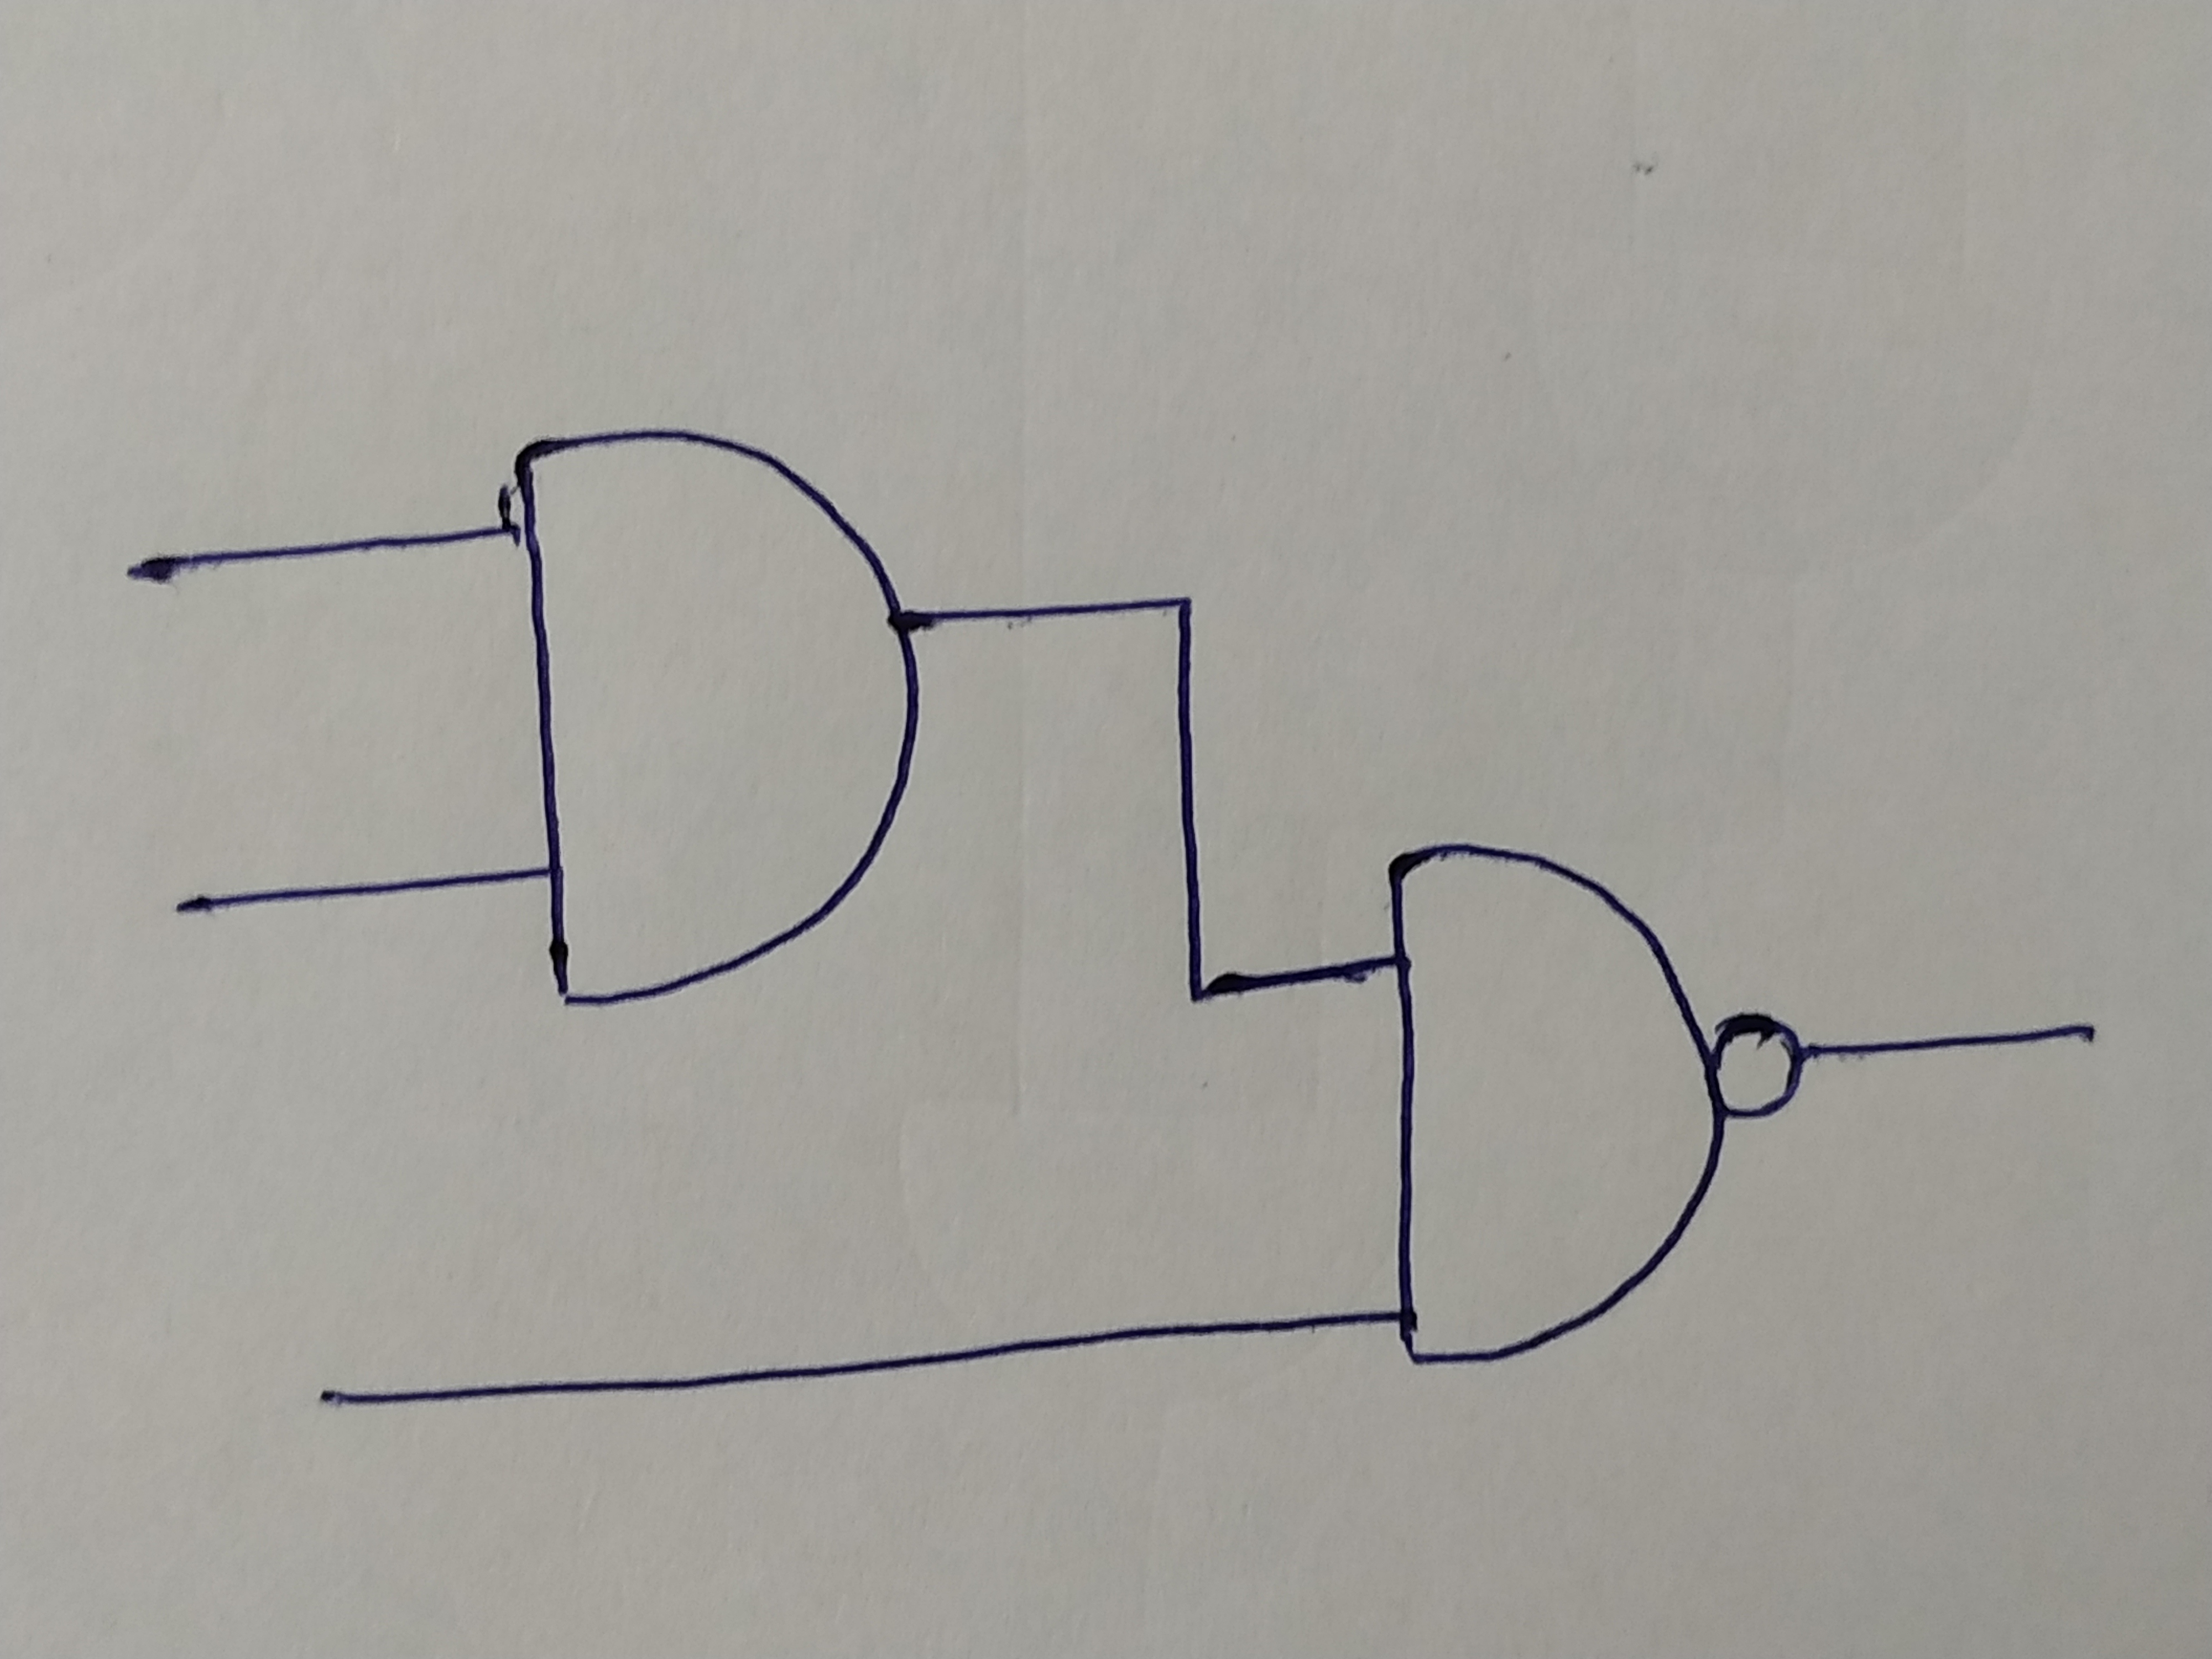and: (517, 430, 911, 999), (1390, 847, 1726, 1366)
not: (1716, 1016, 1801, 1121)
